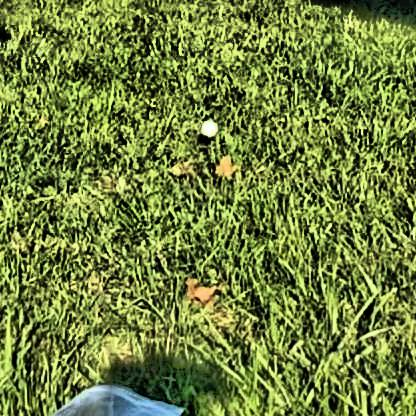golfball: (196, 115, 217, 136)
